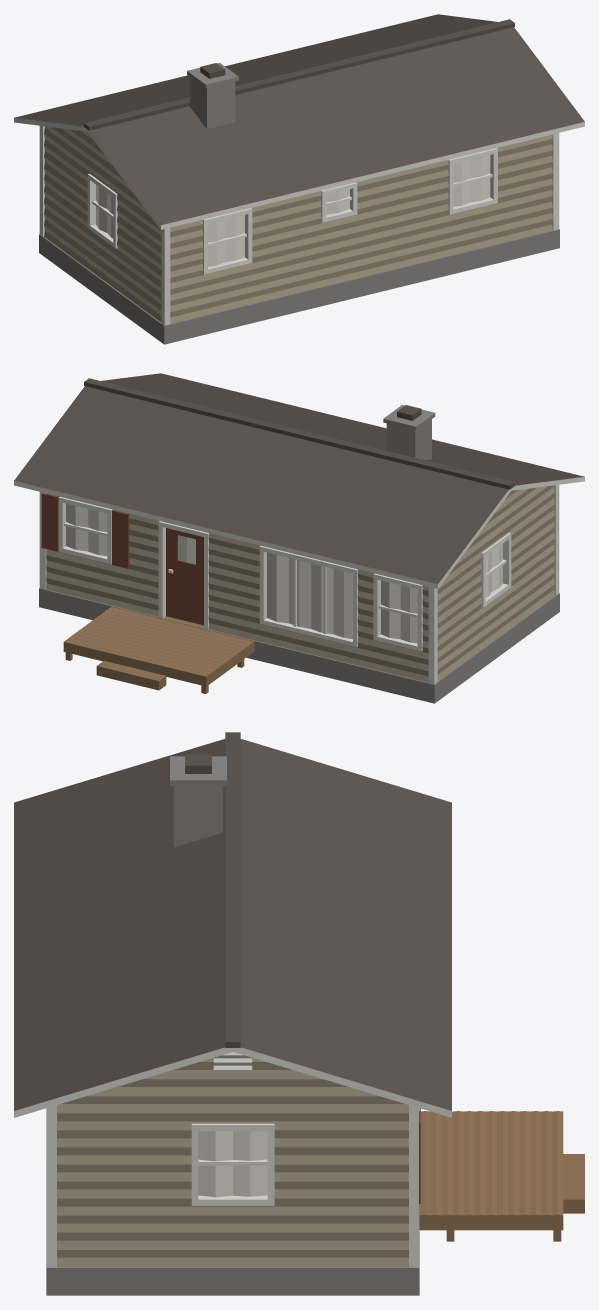
Rendered from ranch-deck.glb.
3 renders of one model, top to bottom at view 1: azimuth 30°, elevation 25°; view 2: azimuth 150°, elevation 25°; view 3: azimuth 270°, elevation 25°, orthographic. The views are drawn at different scales.
Visible parts, largest first — view 1: ranch-deck; view 2: ranch-deck; view 3: ranch-deck.
Part boxes in pixels (<box>): ranch-deck: <box>14,14,584,344</box>; ranch-deck: <box>14,373,584,703</box>; ranch-deck: <box>14,732,584,1295</box>.
Bounding box in the file's own units: 9.54 × 4.6 × 7.43.
